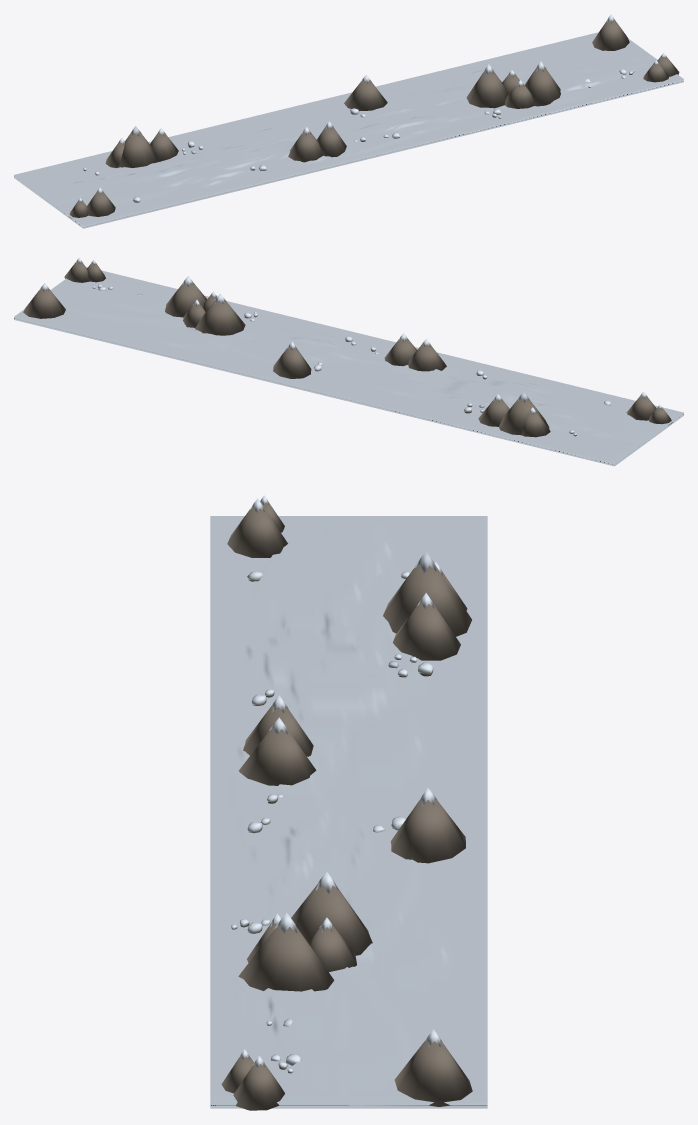
File: terrain.gltf
3 views of the same model, one above another, from view 1: azimuth 30°, elevation 25°; view 2: azimuth 150°, elevation 25°; view 3: azimuth 270°, elevation 25° (orthographic). The views are drawn at different scales.
Visible parts, largest first — view 1: Cube.002, Cone.008, Cone, Cone.001, Cone.014, Cone.011, Cone.010, Cone.009, Cone.002, Cone.003, Cone.007, Cone.012; view 2: Cube.002, Cone.008, Cone.001, Cone.011, Cone.014, Cone, Cone.010, Cone.009, Cone.003, Cone.004, Cone.007, Cone.013 (+1 smaller); view 3: Cube.002, Cone.001, Cone.011, Cone.014, Cone, Cone.008, Cone.009, Cone.003, Cone.007, Cone.013, Cone.006, Cone.010.
Boxes of the visible parts, x1=… form: Cube.002: x1=14, y1=32, x2=683, y2=228; Cone.008: x1=466, y1=64, x2=508, y2=108; Cone: x1=118, y1=126, x2=157, y2=167; Cone.001: x1=525, y1=61, x2=560, y2=106; Cone.014: x1=344, y1=75, x2=387, y2=110; Cone.011: x1=592, y1=14, x2=629, y2=50; Cone.010: x1=288, y1=126, x2=322, y2=162; Cone.009: x1=317, y1=121, x2=346, y2=157; Cone.002: x1=504, y1=80, x2=534, y2=108; Cone.003: x1=150, y1=128, x2=178, y2=161; Cone.007: x1=87, y1=187, x2=115, y2=216; Cone.012: x1=643, y1=60, x2=668, y2=82; Cube.002: x1=14, y1=266, x2=683, y2=466; Cone.008: x1=195, y1=293, x2=245, y2=335; Cone.001: x1=165, y1=276, x2=206, y2=317; Cone.011: x1=23, y1=283, x2=65, y2=318; Cone.014: x1=273, y1=341, x2=311, y2=378; Cone: x1=499, y1=392, x2=549, y2=435; Cone.010: x1=408, y1=339, x2=446, y2=371; Cone.009: x1=384, y1=333, x2=416, y2=366; Cone.003: x1=478, y1=394, x2=509, y2=426; Cone.004: x1=521, y1=407, x2=550, y2=437; Cone.007: x1=626, y1=391, x2=656, y2=420; Cone.013: x1=64, y1=257, x2=89, y2=282; Cube.002: x1=210, y1=516, x2=487, y2=1108; Cone.001: x1=238, y1=913, x2=334, y2=991; Cone.011: x1=394, y1=1029, x2=472, y2=1106; Cone.014: x1=390, y1=788, x2=465, y2=863; Cone: x1=383, y1=551, x2=471, y2=636; Cone.008: x1=291, y1=872, x2=372, y2=955; Cone.009: x1=239, y1=717, x2=316, y2=785; Cone.003: x1=393, y1=593, x2=460, y2=660; Cone.007: x1=227, y1=498, x2=287, y2=557; Cone.013: x1=233, y1=1055, x2=284, y2=1110; Cone.006: x1=308, y1=917, x2=356, y2=971; Cone.010: x1=243, y1=695, x2=313, y2=756.
Bounding box in the file's own units: 202 × 11.97 × 40.
